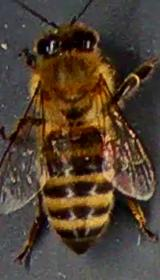varroa_mite: (92, 128, 123, 166)
